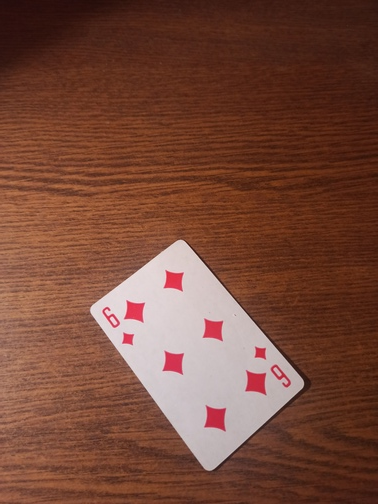sixdiamonds: (89, 240, 306, 475)
